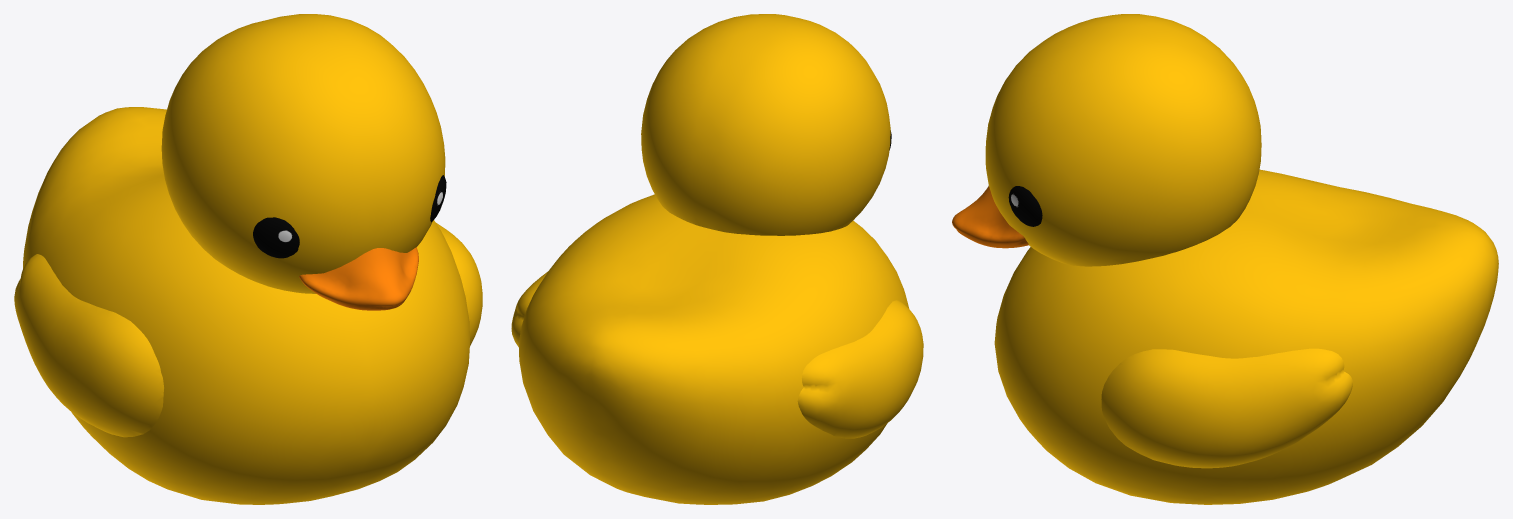
The model's file is duck.fbx.
The picture shows the model from 3 angles, left to right: view 1: azimuth 30°, elevation 25°; view 2: azimuth 150°, elevation 25°; view 3: azimuth 270°, elevation 25°; orthographic projection. The views are drawn at different scales.
Visible parts, largest first — view 1: Group1, Group4, wing_1_2, Group5, wing_1_1, eye_1_2; view 2: Group1, Group4, wing_1_2, wing_1_1; view 3: Group1, Group4, wing_1_1, Group5, eye_1_1.
Boxes of the visible parts, x1,y1,x2,y2 form: Group1: [23, 107, 469, 504]; Group4: [161, 14, 445, 293]; wing_1_2: [14, 254, 163, 437]; Group5: [299, 247, 418, 310]; wing_1_1: [436, 223, 482, 345]; eye_1_2: [253, 217, 299, 258]; Group1: [519, 194, 909, 504]; Group4: [641, 14, 890, 235]; wing_1_2: [797, 300, 923, 438]; wing_1_1: [511, 271, 548, 347]; Group1: [994, 169, 1498, 504]; Group4: [985, 14, 1261, 266]; wing_1_1: [1101, 348, 1352, 468]; Group5: [952, 186, 1028, 248]; eye_1_1: [1008, 186, 1042, 226].
Bounding box in the file's own units: 378 × 420 × 474.
